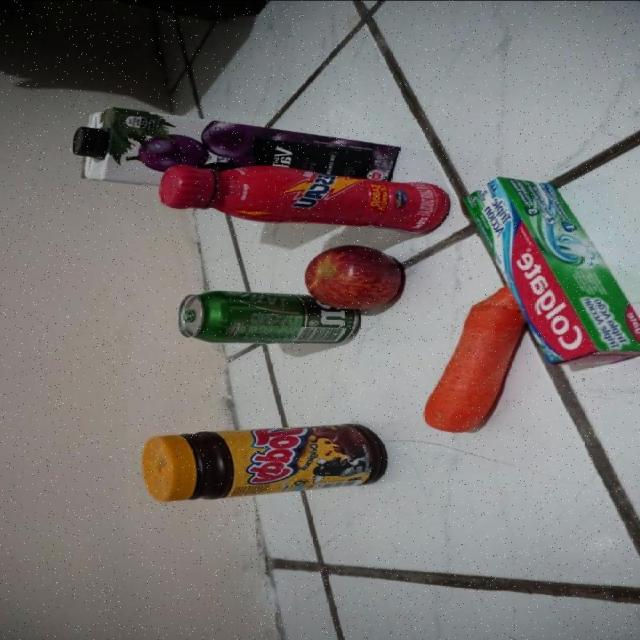Apple: (303, 245, 404, 310)
BeerCan: (176, 290, 361, 345)
Carrot: (422, 283, 523, 433)
ChocolateMilk: (159, 162, 451, 235)
ChocolatePowder: (143, 422, 386, 502)
Toothpaste: (463, 177, 640, 366)
